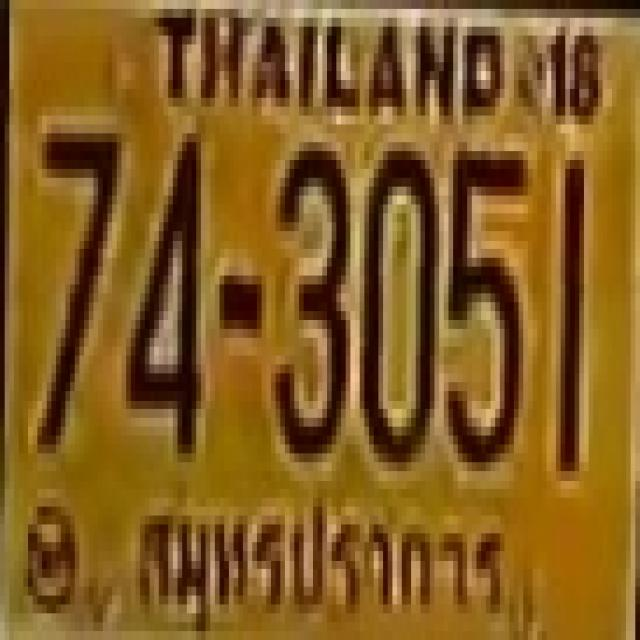0: (360, 142, 434, 454)
1: (556, 156, 579, 467)
3: (271, 142, 346, 454)
4: (122, 129, 196, 449)
5: (444, 142, 523, 462)
7: (37, 124, 117, 444)
SPK: (124, 481, 520, 639)
